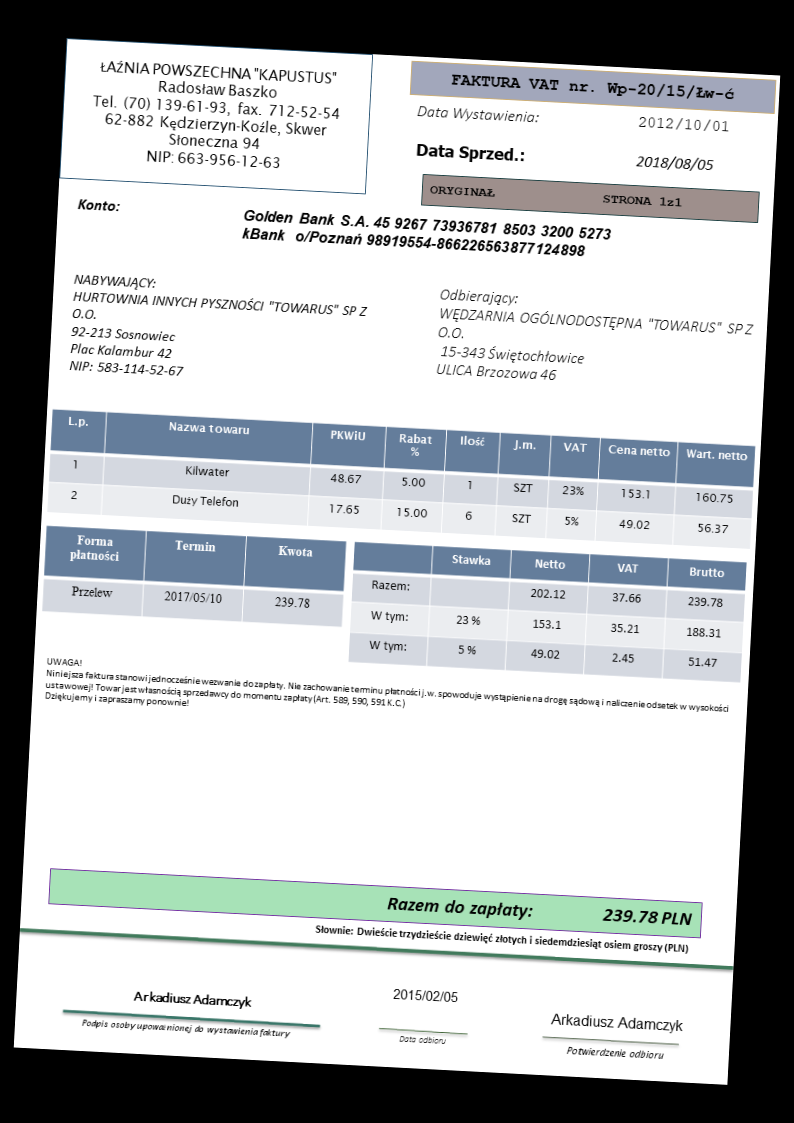Table: (45, 408, 756, 552), (347, 540, 748, 683), (39, 524, 348, 629)
TextBox: (42, 654, 731, 738), (66, 270, 372, 388), (433, 286, 756, 394), (87, 56, 344, 174), (239, 207, 614, 261), (312, 921, 689, 956), (384, 893, 695, 930), (449, 69, 738, 104), (426, 180, 684, 211), (79, 1015, 293, 1041), (548, 1011, 686, 1037), (415, 102, 542, 128), (413, 139, 527, 167), (131, 988, 254, 1011), (636, 114, 733, 137), (563, 1043, 665, 1062), (634, 153, 717, 173), (390, 985, 459, 1005), (76, 195, 120, 215), (396, 1032, 446, 1046)
